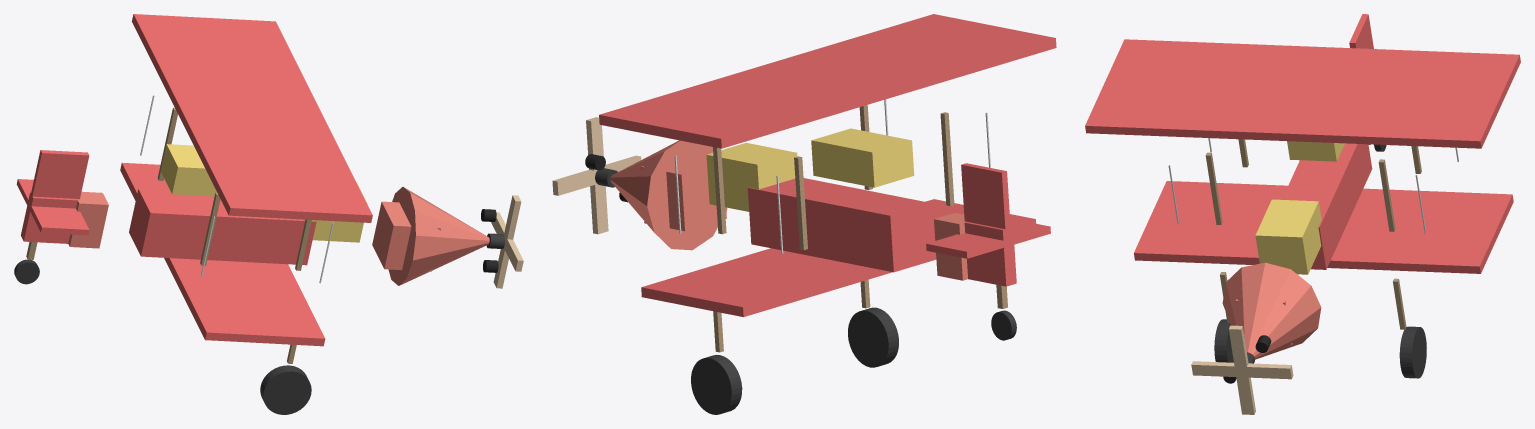
File: daplane.glb
3 views of the same model, side by side, from view 1: azimuth 30°, elevation 25°; view 2: azimuth 150°, elevation 25°; view 3: azimuth 270°, elevation 25° (orthographic). The views are drawn at different scales.
Parts seen in each view (by area): view 1: UpperWing, LowerWing, Fuselage, Nose, VerticalStabilizer, Cockpit, FuselageConnection, RightWheel, HorizontalStabilizer, TailConnection, Tail, FrontSection (+4 smaller); view 2: UpperWing, Fuselage, LowerWing, Nose, Cockpit, FrontSection, VerticalStabilizer, FuselageConnection, RightWheel, LeftWheel, Tail, HorizontalStabilizer (+7 smaller); view 3: UpperWing, LowerWing, Nose, Fuselage, FrontSection, PropellerBlades, LeftWheel, PropellerBlades2, Cockpit, RightWheel, VerticalStabilizer, FrontStrutLeft (+1 smaller).
Part boxes in pixels (bbox=[...]): UpperWing: bbox=[132, 14, 372, 222]; LowerWing: bbox=[120, 162, 325, 346]; Fuselage: bbox=[129, 189, 316, 265]; Nose: bbox=[388, 187, 489, 285]; VerticalStabilizer: bbox=[31, 150, 89, 198]; Cockpit: bbox=[160, 144, 216, 196]; FuselageConnection: bbox=[372, 201, 440, 271]; RightWheel: bbox=[260, 365, 311, 414]; HorizontalStabilizer: bbox=[16, 179, 89, 235]; TailConnection: bbox=[68, 191, 108, 248]; Tail: bbox=[21, 192, 80, 243]; FrontSection: bbox=[304, 181, 367, 242]; UpperWing: bbox=[599, 14, 1056, 148]; Fuselage: bbox=[747, 178, 935, 272]; LowerWing: bbox=[641, 199, 1036, 317]; Nose: bbox=[610, 140, 727, 250]; Cockpit: bbox=[811, 128, 914, 187]; FrontSection: bbox=[706, 142, 797, 211]; VerticalStabilizer: bbox=[961, 163, 1010, 229]; FuselageConnection: bbox=[641, 159, 726, 231]; RightWheel: bbox=[848, 307, 898, 367]; LeftWheel: bbox=[691, 354, 742, 414]; Tail: bbox=[963, 221, 1016, 286]; HorizontalStabilizer: bbox=[926, 218, 1050, 258]; UpperWing: bbox=[1085, 39, 1520, 148]; LowerWing: bbox=[1134, 181, 1513, 273]; Nose: bbox=[1222, 262, 1321, 359]; Fuselage: bbox=[1282, 143, 1372, 269]; FrontSection: bbox=[1255, 199, 1321, 274]; PropellerBlades: bbox=[1191, 361, 1293, 379]; LeftWheel: bbox=[1399, 326, 1426, 378]; PropellerBlades2: bbox=[1228, 325, 1255, 414]; Cockpit: bbox=[1287, 141, 1344, 161]; RightWheel: bbox=[1214, 319, 1233, 362]; VerticalStabilizer: bbox=[1349, 14, 1373, 48]; FrontStrutLeft: bbox=[1378, 159, 1395, 231].
Size of the model in its own units: 4.09 by 2.64 by 3.38.
